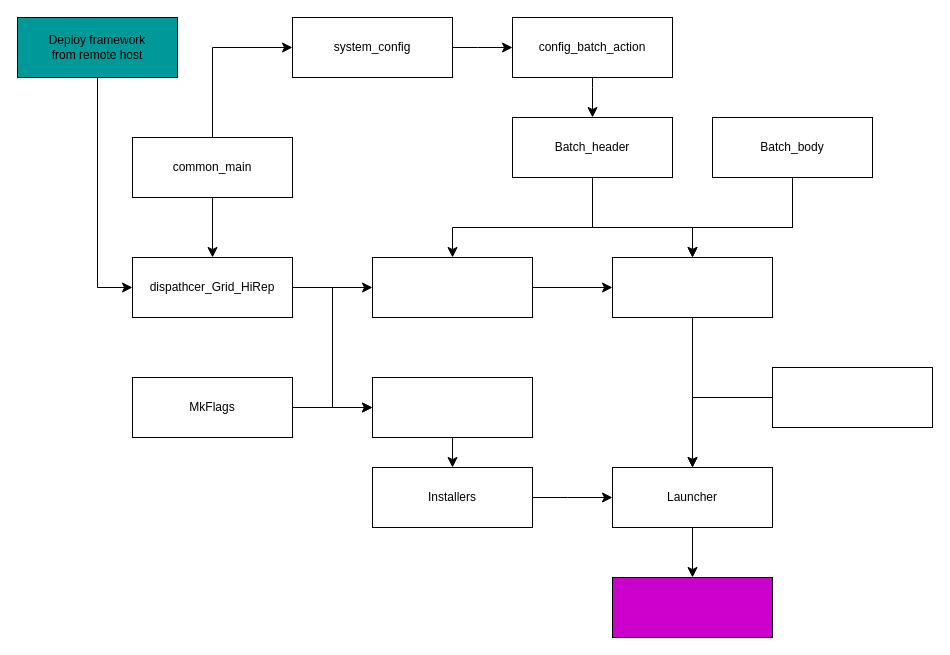
Some shapes in this 950 by 655 pixel diagram are drawn without their labels. The shapes that lost their labels are listed below. From the top down, each one's centre as x and y in pixels, then its label:
At (452,287): "Batch_bench_all_creators".
At (692,287): "Batch_bench_case_creators".
At (452,407): "Builders".
At (852,397): "Benchmark Inputs".
At (692,607): "Data Visualization".
